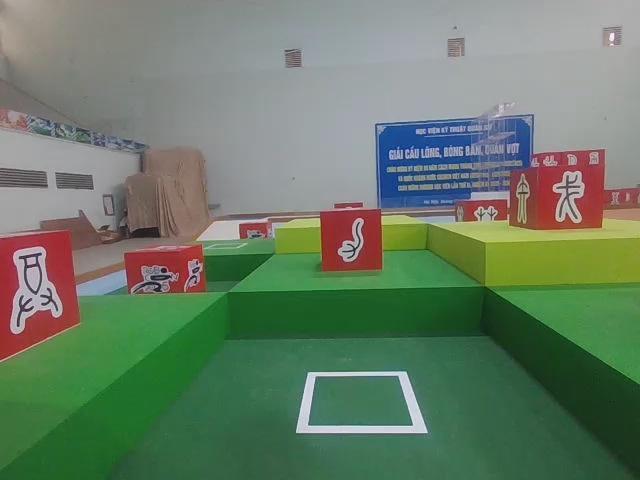R1: (118, 240, 207, 298)
R2 Fake: (509, 162, 608, 232)
R2 Real: (0, 225, 77, 364), (320, 205, 383, 273)
